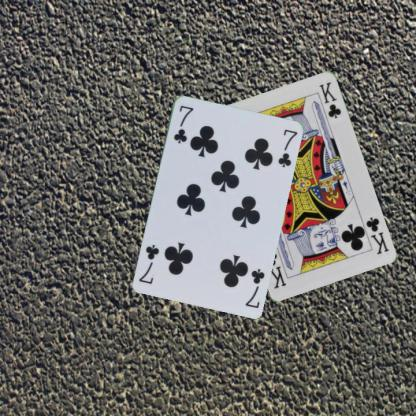7c: (242, 265, 266, 309), (170, 102, 195, 144)
Kc: (363, 214, 390, 256)
